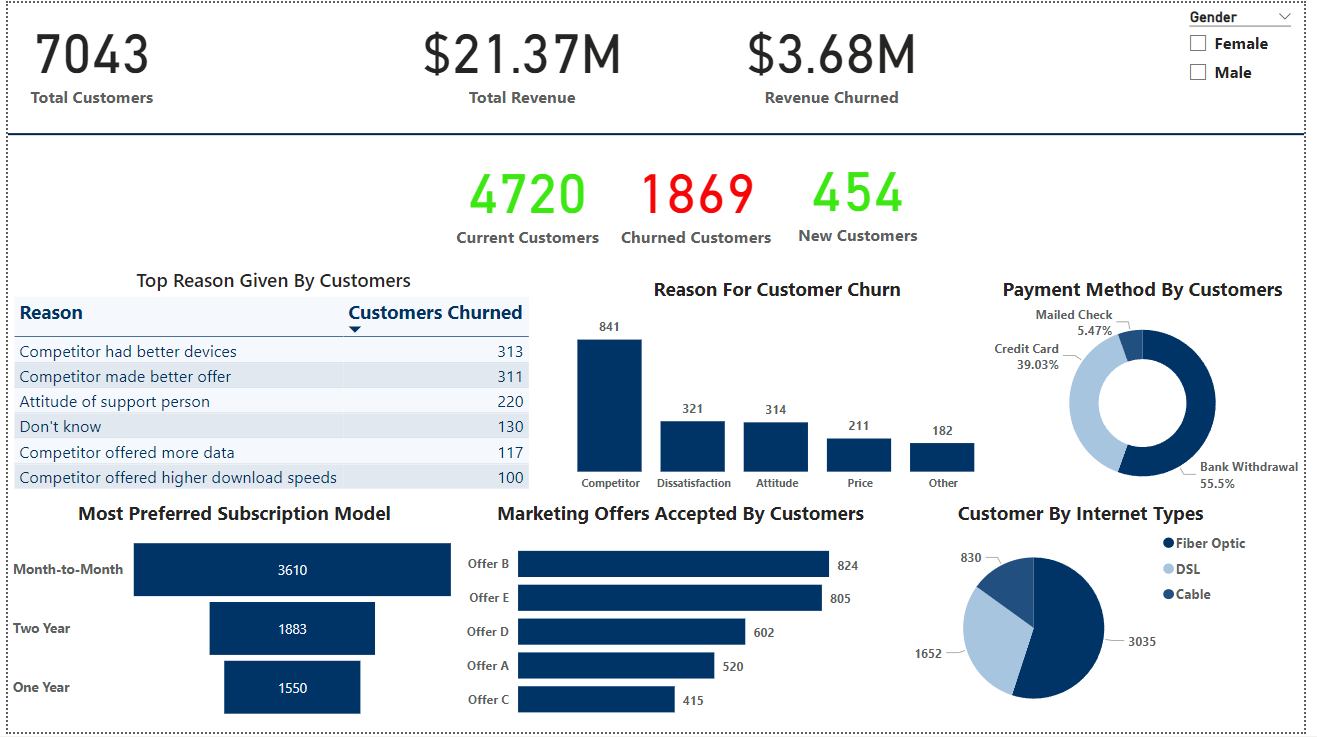

The dashboard page shown, as its layout file describes it:
{"tool":"powerbi","page":{"name":"Page 1","canvas":[1280,720],"ordinal":0},"visuals":[{"type":"columnChart","title":"Reason For Customer Churn","fields":{"Y":["CountNonNull(telecom_customer_churn.Customer ID)"],"Category":["telecom_customer_churn.Churn Category"]},"box":[524.3,268.6,470,221.4],"z":0},{"type":"card","title":"Total Customers","fields":{"Values":["CountNonNull(telecom_customer_churn.Customer ID)"]},"box":[0,0,165.7,107.1],"z":1000},{"type":"card","title":"Churned Customers","fields":{"Values":["CountNonNull(telecom_customer_churn.Customer ID)"]},"box":[598.6,132.9,161.4,118.6],"z":2000},{"type":"tableEx","title":"Top Reason Given By Customers","fields":{"Values":["telecom_customer_churn.Churn Reason","telecom_customer_churn.Customer ID"]},"box":[0,260,524.3,230],"z":3000},{"type":"card","title":"New Customers","fields":{"Values":["CountNonNull(telecom_customer_churn.Customer Status)"]},"box":[754.3,135.7,170,110],"z":4000},{"type":"card","title":"Current Customers","fields":{"Values":["CountNonNull(telecom_customer_churn.Customer Status)"]},"box":[428.6,134.3,170,114.3],"z":5000},{"type":"pieChart","title":"Customer By Internet Types","fields":{"Y":["CountNonNull(telecom_customer_churn.Customer ID)"],"Category":["telecom_customer_churn.Internet Type"]},"box":[881.4,490,355.7,230],"z":7000},{"type":"funnel","title":"Most Preferred Subscription Model","fields":{"Category":["telecom_customer_churn.Contract"],"Y":["CountNonNull(telecom_customer_churn.Customer ID)"]},"box":[0,490,447.1,230],"z":8000},{"type":"card","fields":{"Values":["Sum(telecom_customer_churn.Total Revenue)"]},"box":[377.1,0,262.9,107.1],"z":9000},{"type":"card","fields":{"Values":["Sum(telecom_customer_churn.Total Revenue)"]},"box":[695.7,1.4,234.3,105.7],"z":10000},{"type":"barChart","title":"Marketing Offers Accepted By Customers","fields":{"Y":["Count(telecom_customer_churn.Customer ID)"],"Category":["telecom_customer_churn.Offer"]},"box":[447.1,490,434.3,230],"z":11000},{"type":"donutChart","title":"Payment Method By Customers","fields":{"Y":["Count(telecom_customer_churn.Customer ID)"],"Category":["telecom_customer_churn.Payment Method"]},"box":[960,268.6,320,227.1],"z":11001},{"type":"slicer","fields":{"Values":["telecom_customer_churn.Gender"]},"box":[1154.3,0,125.7,130],"z":11002},{"type":"shape","box":[0,54.3,1280,150],"z":11003}]}

Visuals, with their boxes in screenshot pixels (x1, y1, x2, y2), scaled from the page's 1280x720 canvas onto the 1317x737 screenshot:
"Reason For Customer Churn" columnChart: 539, 275, 1023, 502
"Total Customers" card: 0, 0, 170, 110
"Churned Customers" card: 616, 136, 782, 257
"Top Reason Given By Customers" tableEx: 0, 266, 539, 502
"New Customers" card: 776, 139, 951, 252
"Current Customers" card: 441, 137, 616, 254
"Customer By Internet Types" pieChart: 907, 502, 1273, 736
"Most Preferred Subscription Model" funnel: 0, 502, 460, 736
card - Sum(telecom_customer_churn.Total Revenue): 388, 0, 658, 110
card - Sum(telecom_customer_churn.Total Revenue): 716, 1, 957, 110
"Marketing Offers Accepted By Customers" barChart: 460, 502, 907, 736
"Payment Method By Customers" donutChart: 988, 275, 1316, 507
slicer - telecom_customer_churn.Gender: 1188, 0, 1316, 133
shape: 0, 56, 1316, 209
